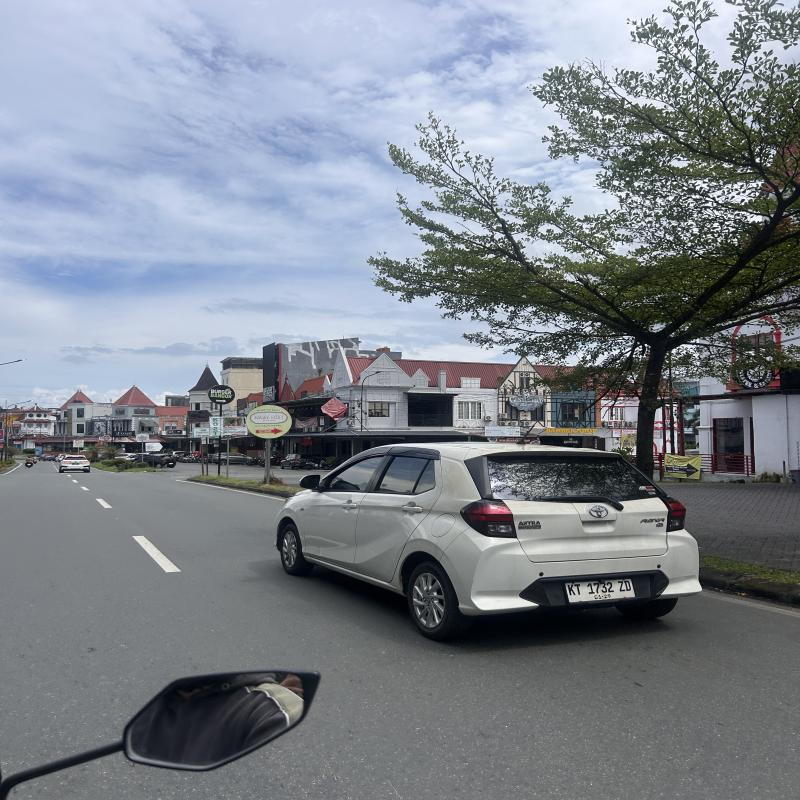license plate on a car: (566, 579, 638, 603), (72, 463, 79, 465)
